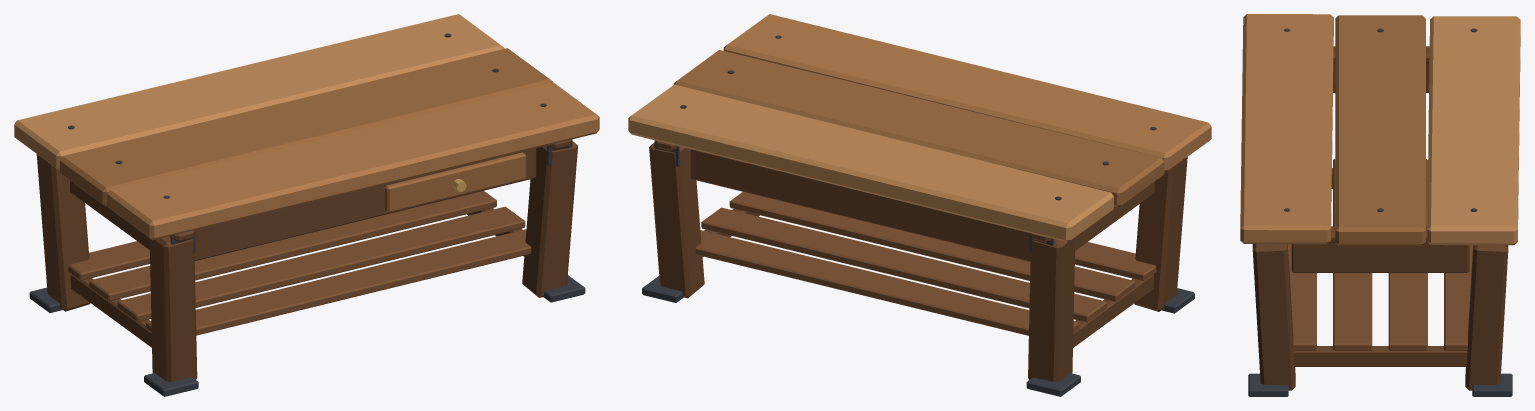
File: workbench.glb
The picture shows the model from 3 angles, left to right: view 1: azimuth 30°, elevation 25°; view 2: azimuth 150°, elevation 25°; view 3: azimuth 270°, elevation 25°; orthographic projection. The views are drawn at different scales.
Parts seen in each view (by area): view 1: Workbench; view 2: Workbench; view 3: Workbench.
Boxes of the visible parts, x1,y1,x2,y2 form: Workbench: (14,14,599,396); Workbench: (628,14,1211,396); Workbench: (1240,14,1520,396).
Size of the model in its own units: 1.1 by 0.4251 by 0.6063.
